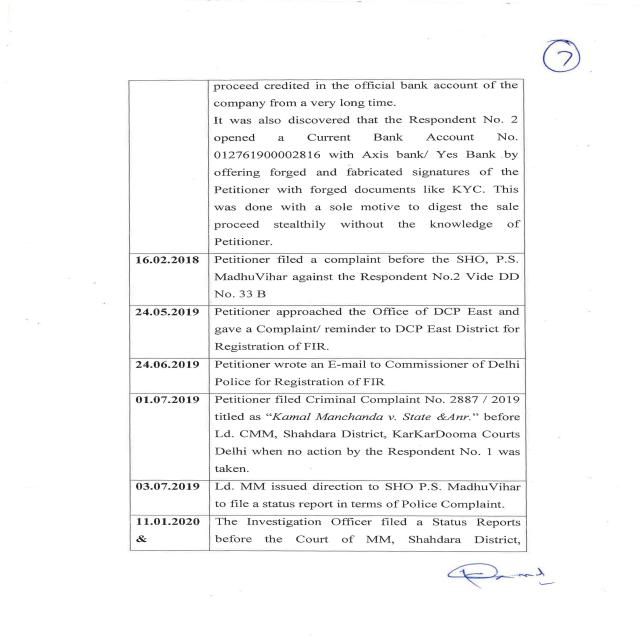page-number: (380, 0, 638, 74)
